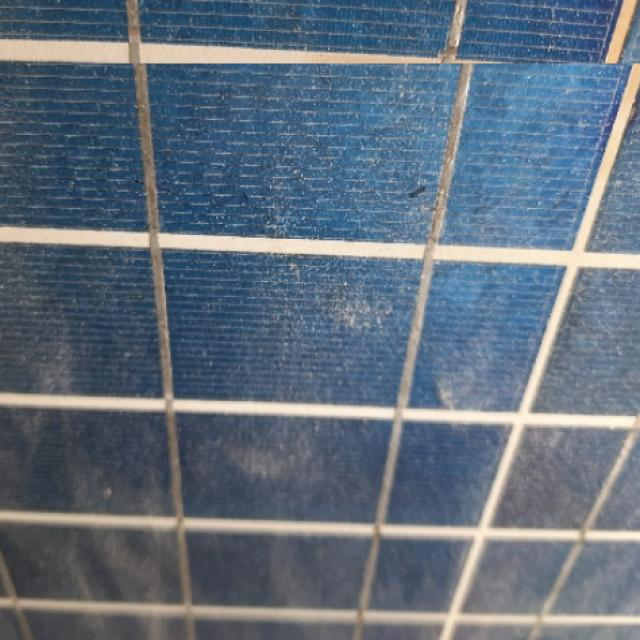Dirty: (0, 63, 640, 640)
